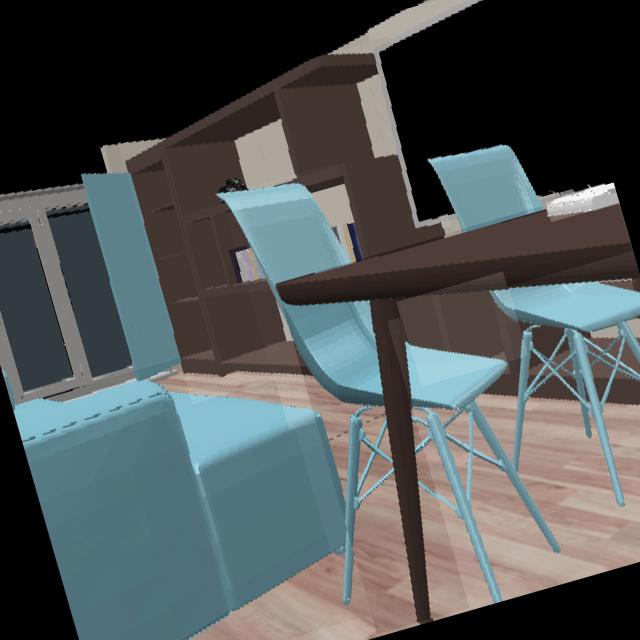book: (548, 182, 618, 217)
bookshelf: (128, 54, 444, 375), (403, 293, 520, 360)
chair: (407, 283, 640, 598), (223, 184, 385, 405), (344, 409, 395, 602), (434, 148, 541, 230)
monitor: (382, 0, 611, 220)
sofa: (14, 382, 347, 640)
table: (279, 206, 639, 621)
